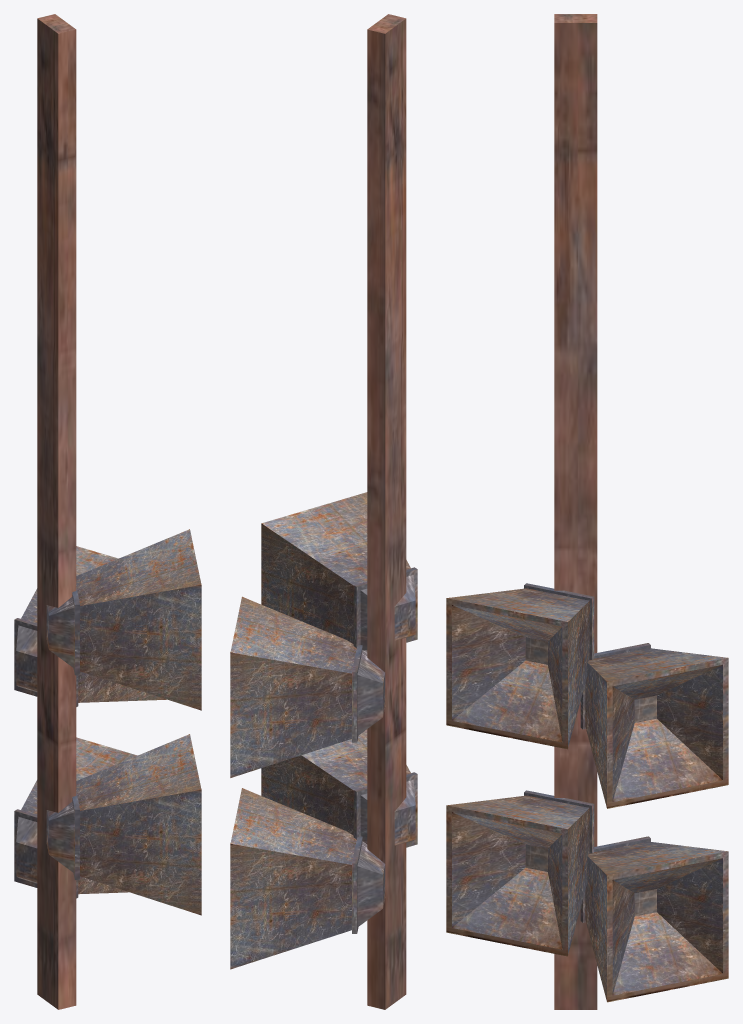
Rendered from megafone.fbx.
3 views of the same model, side by side, from view 1: azimuth 30°, elevation 25°; view 2: azimuth 150°, elevation 25°; view 3: azimuth 270°, elevation 25° (orthographic).
Visible parts, largest first — view 1: pCube408, pCube410, pCube411, pCube412, pCube409; view 2: pCube408, pCube412, pCube409, pCube410, pCube411; view 3: pCube408, pCube410, pCube411, pCube412, pCube409.
Part boxes in pixels (x1,y1,x2,y2): pCube408: (37, 14, 76, 1009); pCube410: (46, 529, 201, 710); pCube411: (46, 734, 201, 915); pCube412: (14, 546, 166, 706); pCube409: (14, 737, 137, 898); pCube408: (367, 14, 406, 1009); pCube412: (230, 596, 385, 777); pCube409: (230, 788, 385, 969); pCube410: (261, 492, 417, 650); pCube411: (261, 729, 417, 847); pCube408: (554, 14, 597, 1009); pCube410: (446, 583, 594, 749); pCube411: (446, 790, 594, 956); pCube412: (580, 643, 728, 808); pCube409: (580, 836, 728, 1002).
Bounding box in the file's own units: 194 × 1224 × 317.
